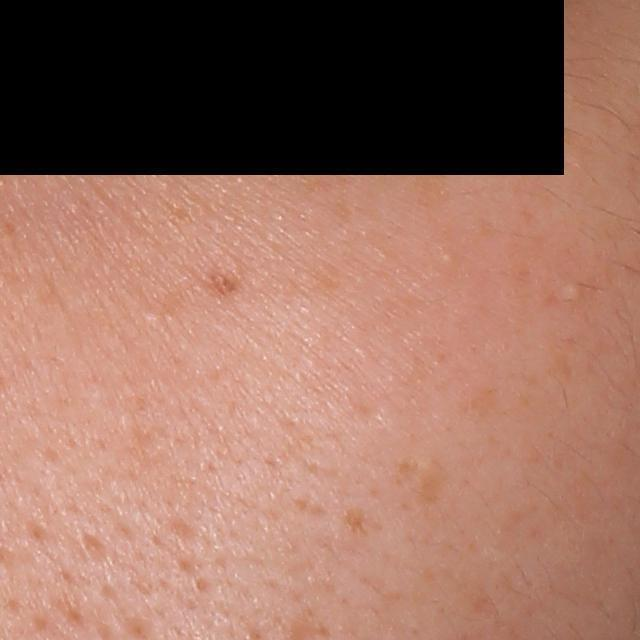melasma: (386, 453, 451, 510), (447, 380, 510, 423), (408, 158, 455, 211), (293, 163, 360, 197), (192, 262, 240, 297)
